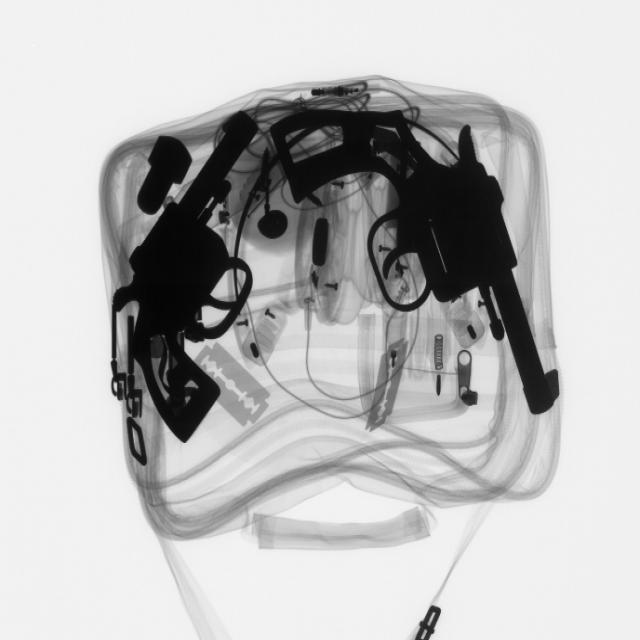BLADE: (197, 342, 274, 431), (360, 333, 417, 443)
GUN: (274, 109, 546, 410), (116, 114, 270, 433)
